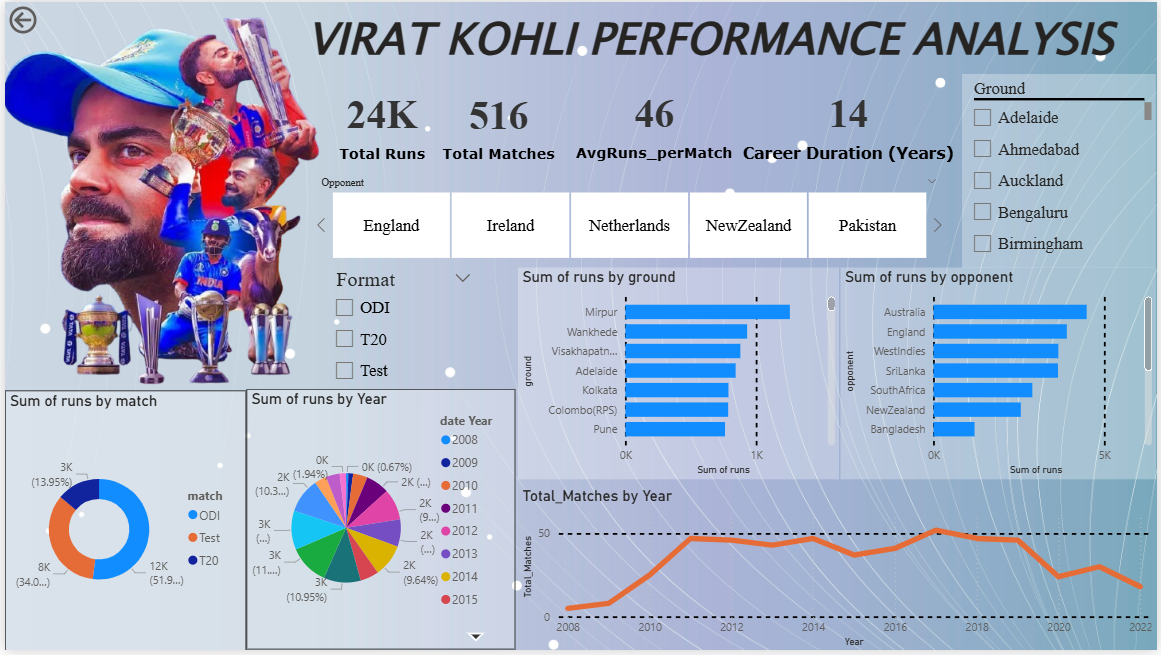

This screenshot's page, from the dashboard's own definition file:
{"tool":"powerbi","page":{"name":"Page 1","canvas":[1280,720],"ordinal":0},"visuals":[{"type":"image","box":[0,0,355.4,430.8],"z":0},{"type":"textbox","box":[286,0,994,84],"z":1000},{"type":"advanceCardE03760C5AB684758B56AA29F9E6C257B","fields":{"mainMeasure":["Source.Total Runs"]},"box":[306,86,224,106],"z":2000},{"type":"advanceCardE03760C5AB684758B56AA29F9E6C257B","fields":{"mainMeasure":["Source.Total Matches"]},"box":[431.7,66.3,233.7,147.1],"z":3000},{"type":"advanceCardE03760C5AB684758B56AA29F9E6C257B","fields":{"mainMeasure":["Source.AvgRuns_perMatch"]},"box":[598,74,246,130],"z":4000},{"type":"advanceCardE03760C5AB684758B56AA29F9E6C257B","fields":{"mainMeasure":["Source.Career Duration (Years)"]},"box":[811.5,75,251,128.8],"z":5000},{"type":"slicer","fields":{"Values":["Source.ground"]},"box":[1063.1,80,215.4,215.4],"z":6000},{"type":"slicer","fields":{"Values":["Source.opponent"]},"box":[338.5,187.7,709.2,103.1],"z":7000},{"type":"lineChart","fields":{"Category":["Source.date.Variation.Date Hierarchy.Year"],"Y":["Source.Total_Matches"]},"box":[570,537.5,709.2,183.3],"z":8000},{"type":"clusteredBarChart","fields":{"Category":["Source.opponent"],"Y":["Sum(Source.runs)"]},"box":[927.7,295.4,350.8,235.4],"z":9000},{"type":"barChart","fields":{"Category":["Source.ground"],"Y":["Sum(Source.runs)"]},"box":[569.2,295.4,356.9,235.4],"z":10000},{"type":"actionButton","box":[0,0,100,40],"z":11000},{"type":"pieChart","fields":{"Y":["Sum(Source.runs)"],"Category":["Source.date.Variation.Date Hierarchy.Year"]},"box":[267.7,430.8,298.5,289.2],"z":12000},{"type":"slicer","fields":{"Values":["Source.match"]},"box":[355.4,290.8,175.4,141.5],"z":13000},{"type":"donutChart","fields":{"Y":["Sum(Source.runs)"],"Category":["Source.match"]},"box":[0,430,268.3,288.3],"z":14000}]}

Visuals, with their boxes in screenshot pixels (x1, y1, x2, y2), scaled from the page's 1280x720 canvas onto the 1161x655 screenshot:
image: <region>0, 0, 322, 392</region>
textbox: <region>259, 0, 1160, 76</region>
advanceCardE03760C5AB684758B56AA29F9E6C257B - Source.Total Runs: <region>278, 78, 481, 175</region>
advanceCardE03760C5AB684758B56AA29F9E6C257B - Source.Total Matches: <region>392, 60, 604, 194</region>
advanceCardE03760C5AB684758B56AA29F9E6C257B - Source.AvgRuns_perMatch: <region>542, 67, 766, 186</region>
advanceCardE03760C5AB684758B56AA29F9E6C257B - Source.Career Duration (Years): <region>736, 68, 964, 185</region>
slicer - Source.ground: <region>964, 73, 1160, 269</region>
slicer - Source.opponent: <region>307, 171, 950, 265</region>
lineChart - Source.date.Variation.Date Hierarchy.Year x Source.Total_Matches: <region>517, 489, 1160, 654</region>
clusteredBarChart - Source.opponent x Sum(Source.runs): <region>841, 269, 1160, 483</region>
barChart - Source.ground x Sum(Source.runs): <region>516, 269, 840, 483</region>
actionButton: <region>0, 0, 91, 36</region>
pieChart - Sum(Source.runs) x Source.date.Variation.Date Hierarchy.Year: <region>243, 392, 514, 654</region>
slicer - Source.match: <region>322, 265, 481, 393</region>
donutChart - Sum(Source.runs) x Source.match: <region>0, 391, 243, 653</region>
